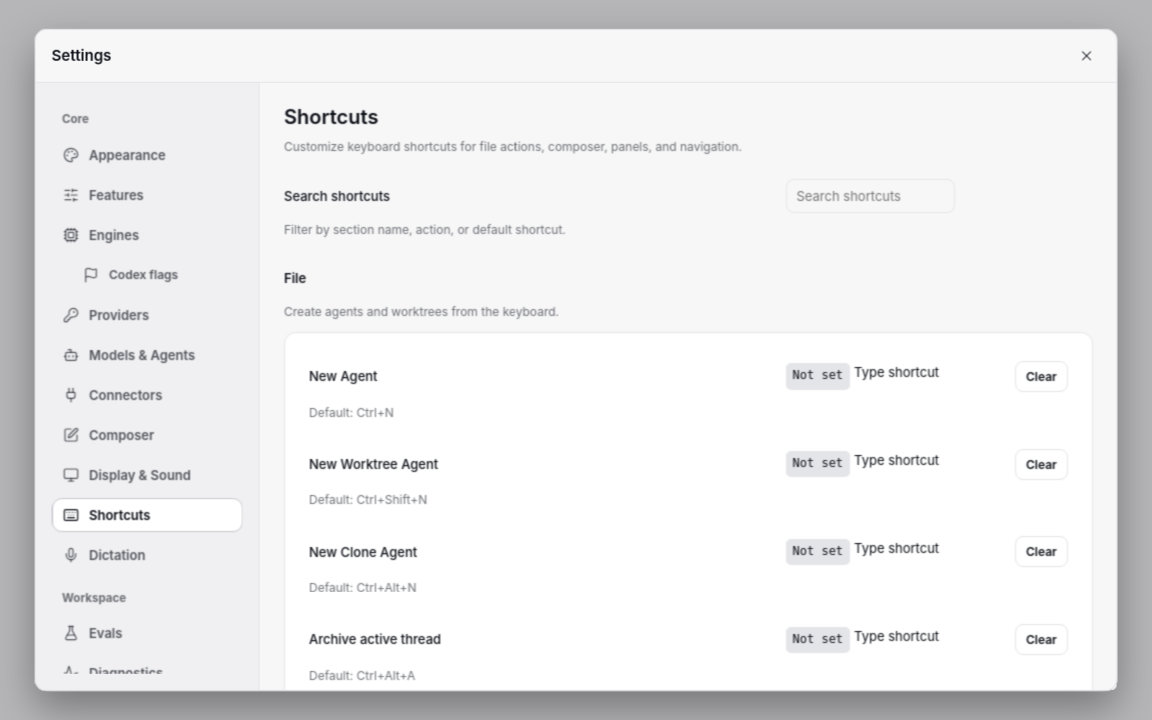
SettingsView Shortcuts › filters shortcuts by search query
Type "navigation" into the field labelled "Search shortcuts". click: coordinates (870, 196)
box: [785, 179, 954, 213]
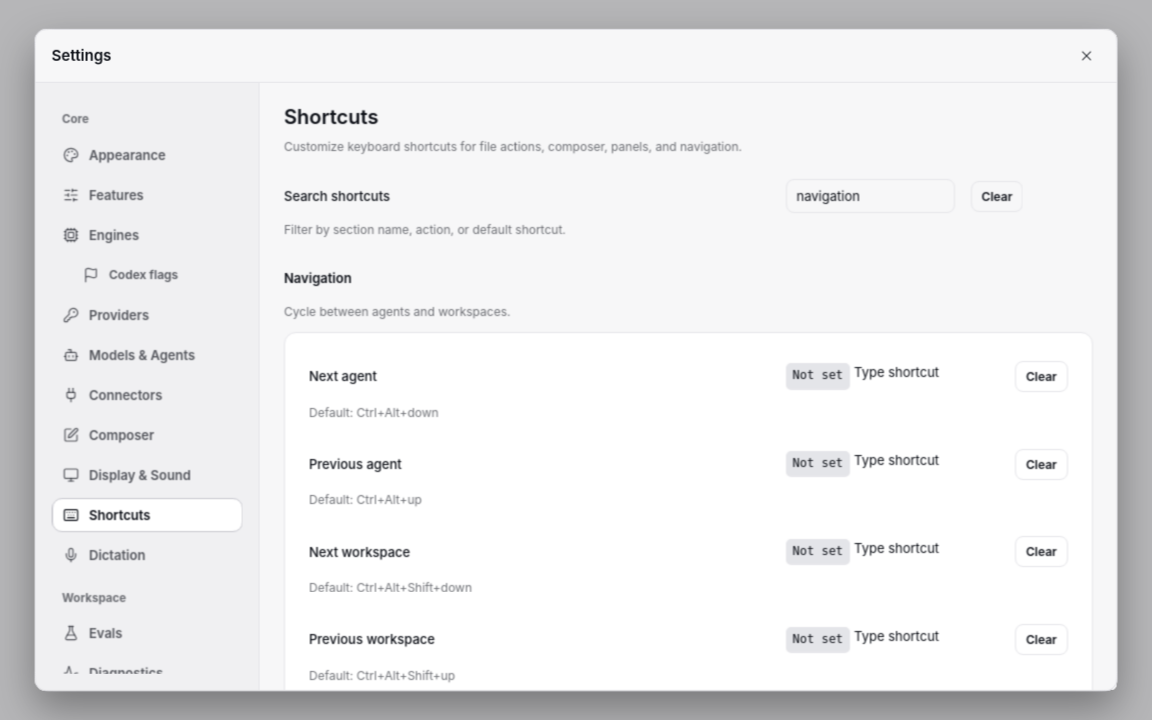
Expected: the text "Toggle terminal panel" is not shown
Expected: the text "Next workspace" is shown, [309, 543, 410, 559]
Replace the text in the field labelled "Search shortcuts" with "sidebars". click: coordinates (870, 196)
box: [785, 179, 954, 213]
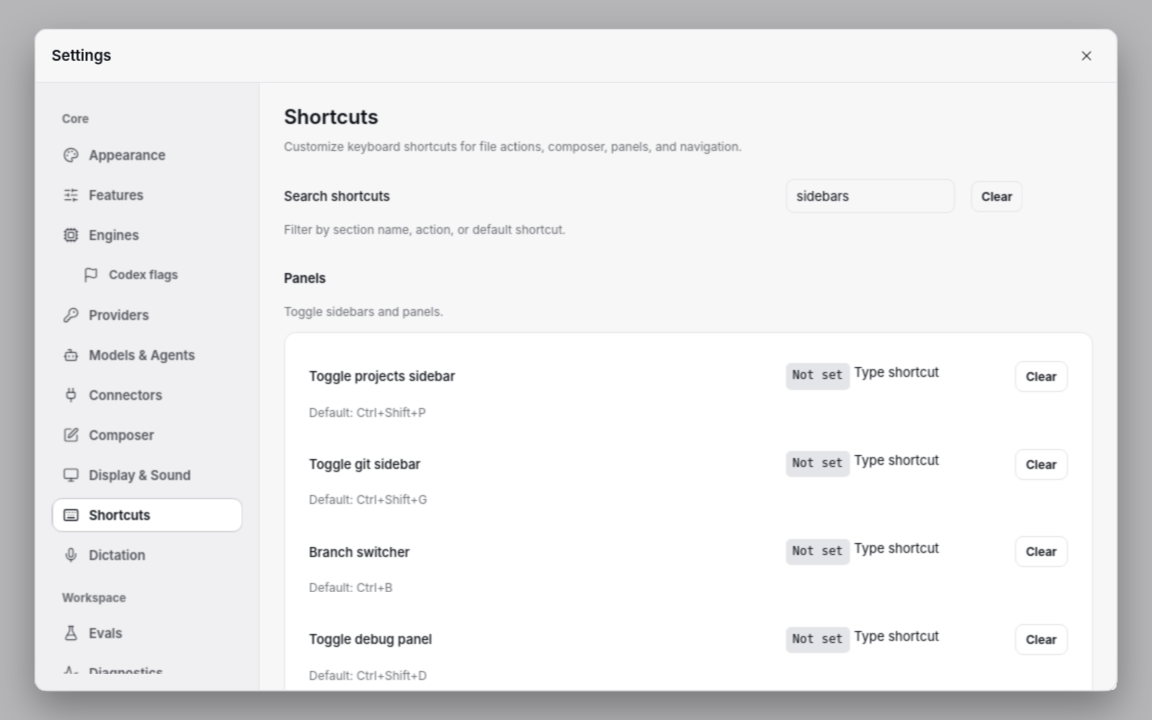
Expected: the text "Toggle projects sidebar" is shown, [309, 368, 455, 384]
Expected: the text "Next workspace" is gone
Replace the text in the field labelled "Search shortcuts" with "new shortcut while focused". click: coordinates (870, 196)
box: [785, 179, 954, 213]
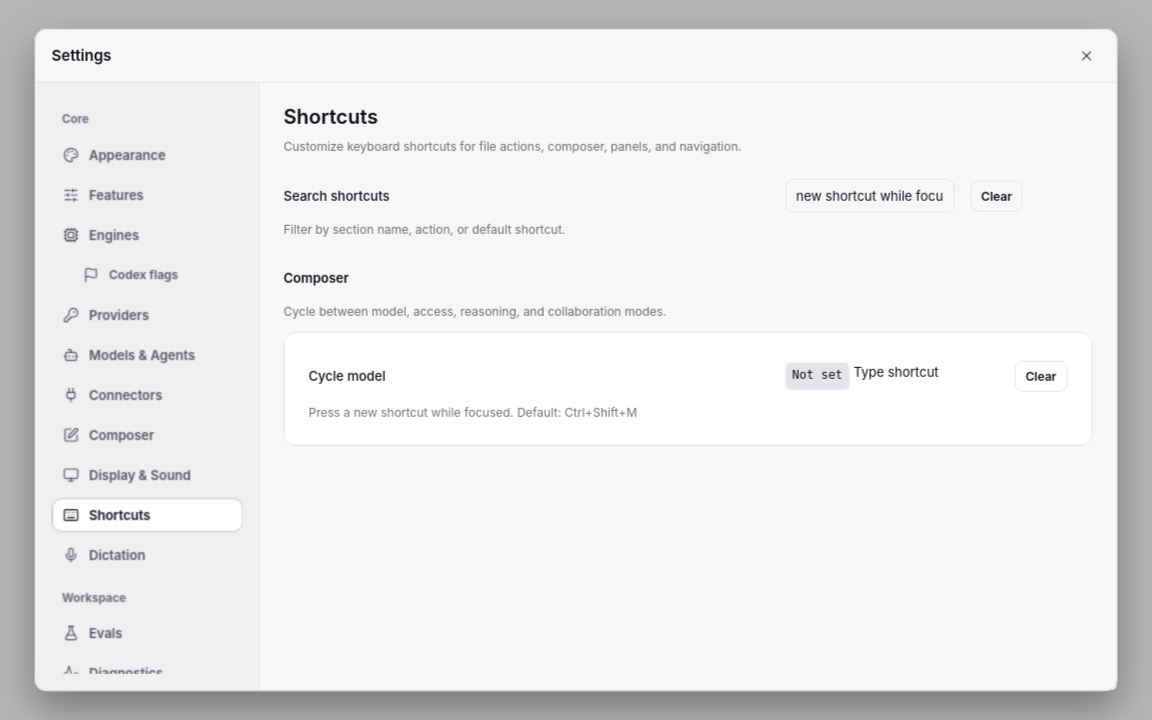
Expected: the text "Toggle terminal panel" is not shown
Expected: the text "Cycle model" is shown, [309, 368, 386, 384]
Replace the text in the field labelled "Search shortcuts" with "no-such-shortcut". click: coordinates (870, 196)
box: [785, 179, 954, 213]
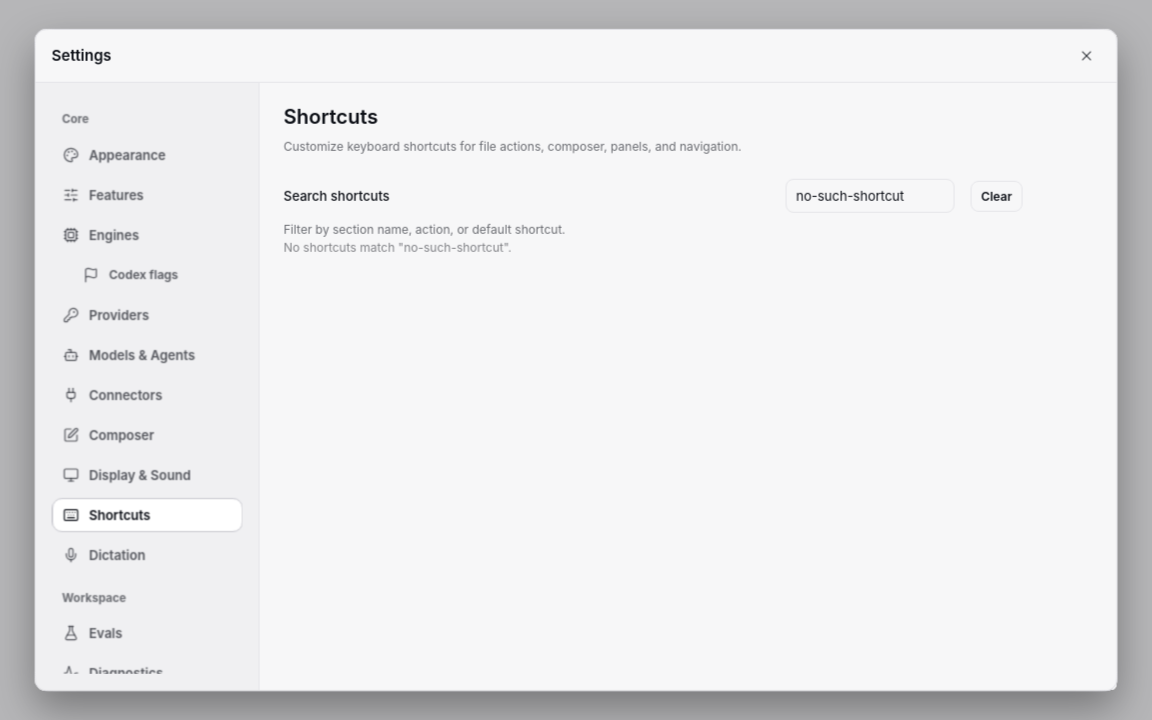
Expected: the text "No shortcuts match \"no-such-shortcut\"." is shown, [284, 240, 512, 255]
Click the button "Clear". click: coordinates (997, 196)
box: [970, 181, 1023, 212]
(page scrolled)
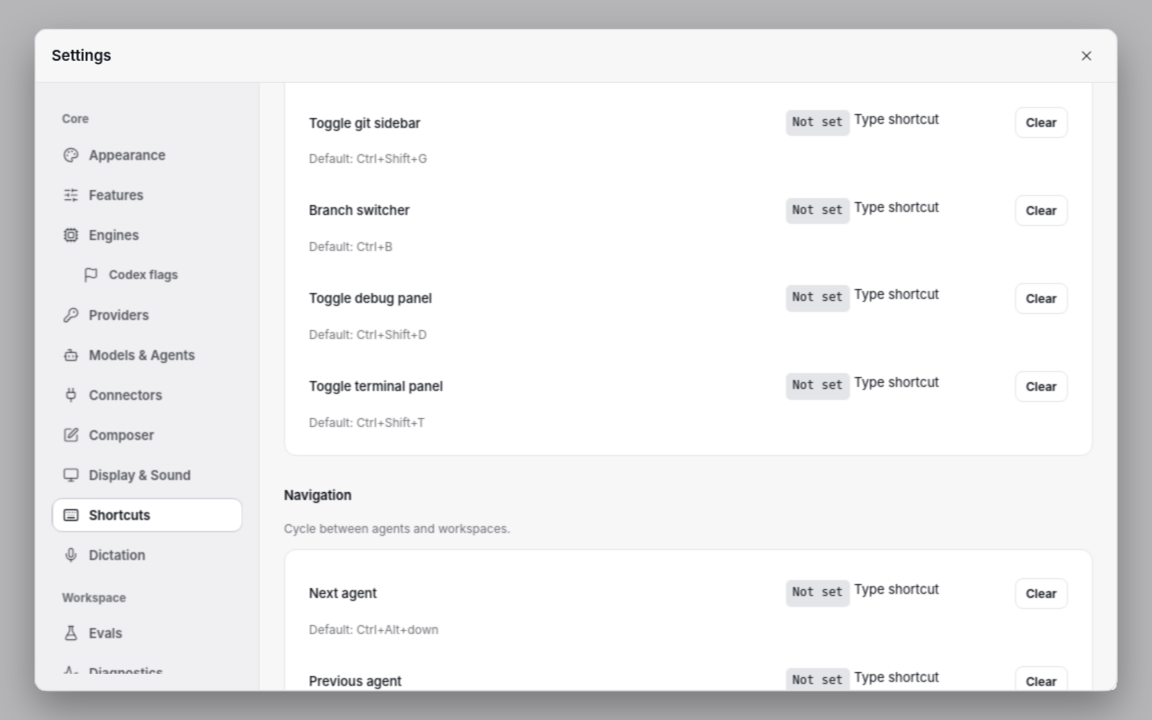
Expected: the text "Toggle terminal panel" is shown, [309, 378, 443, 394]
Expected: the text "No shortcuts match \"no-such-shortcut\"." is gone
